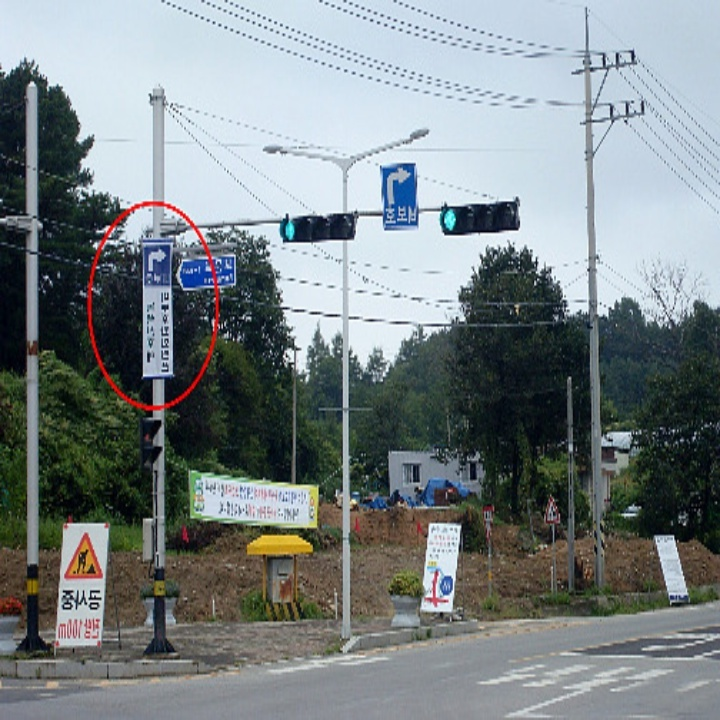right: (383, 164, 417, 202), (143, 244, 169, 275)
